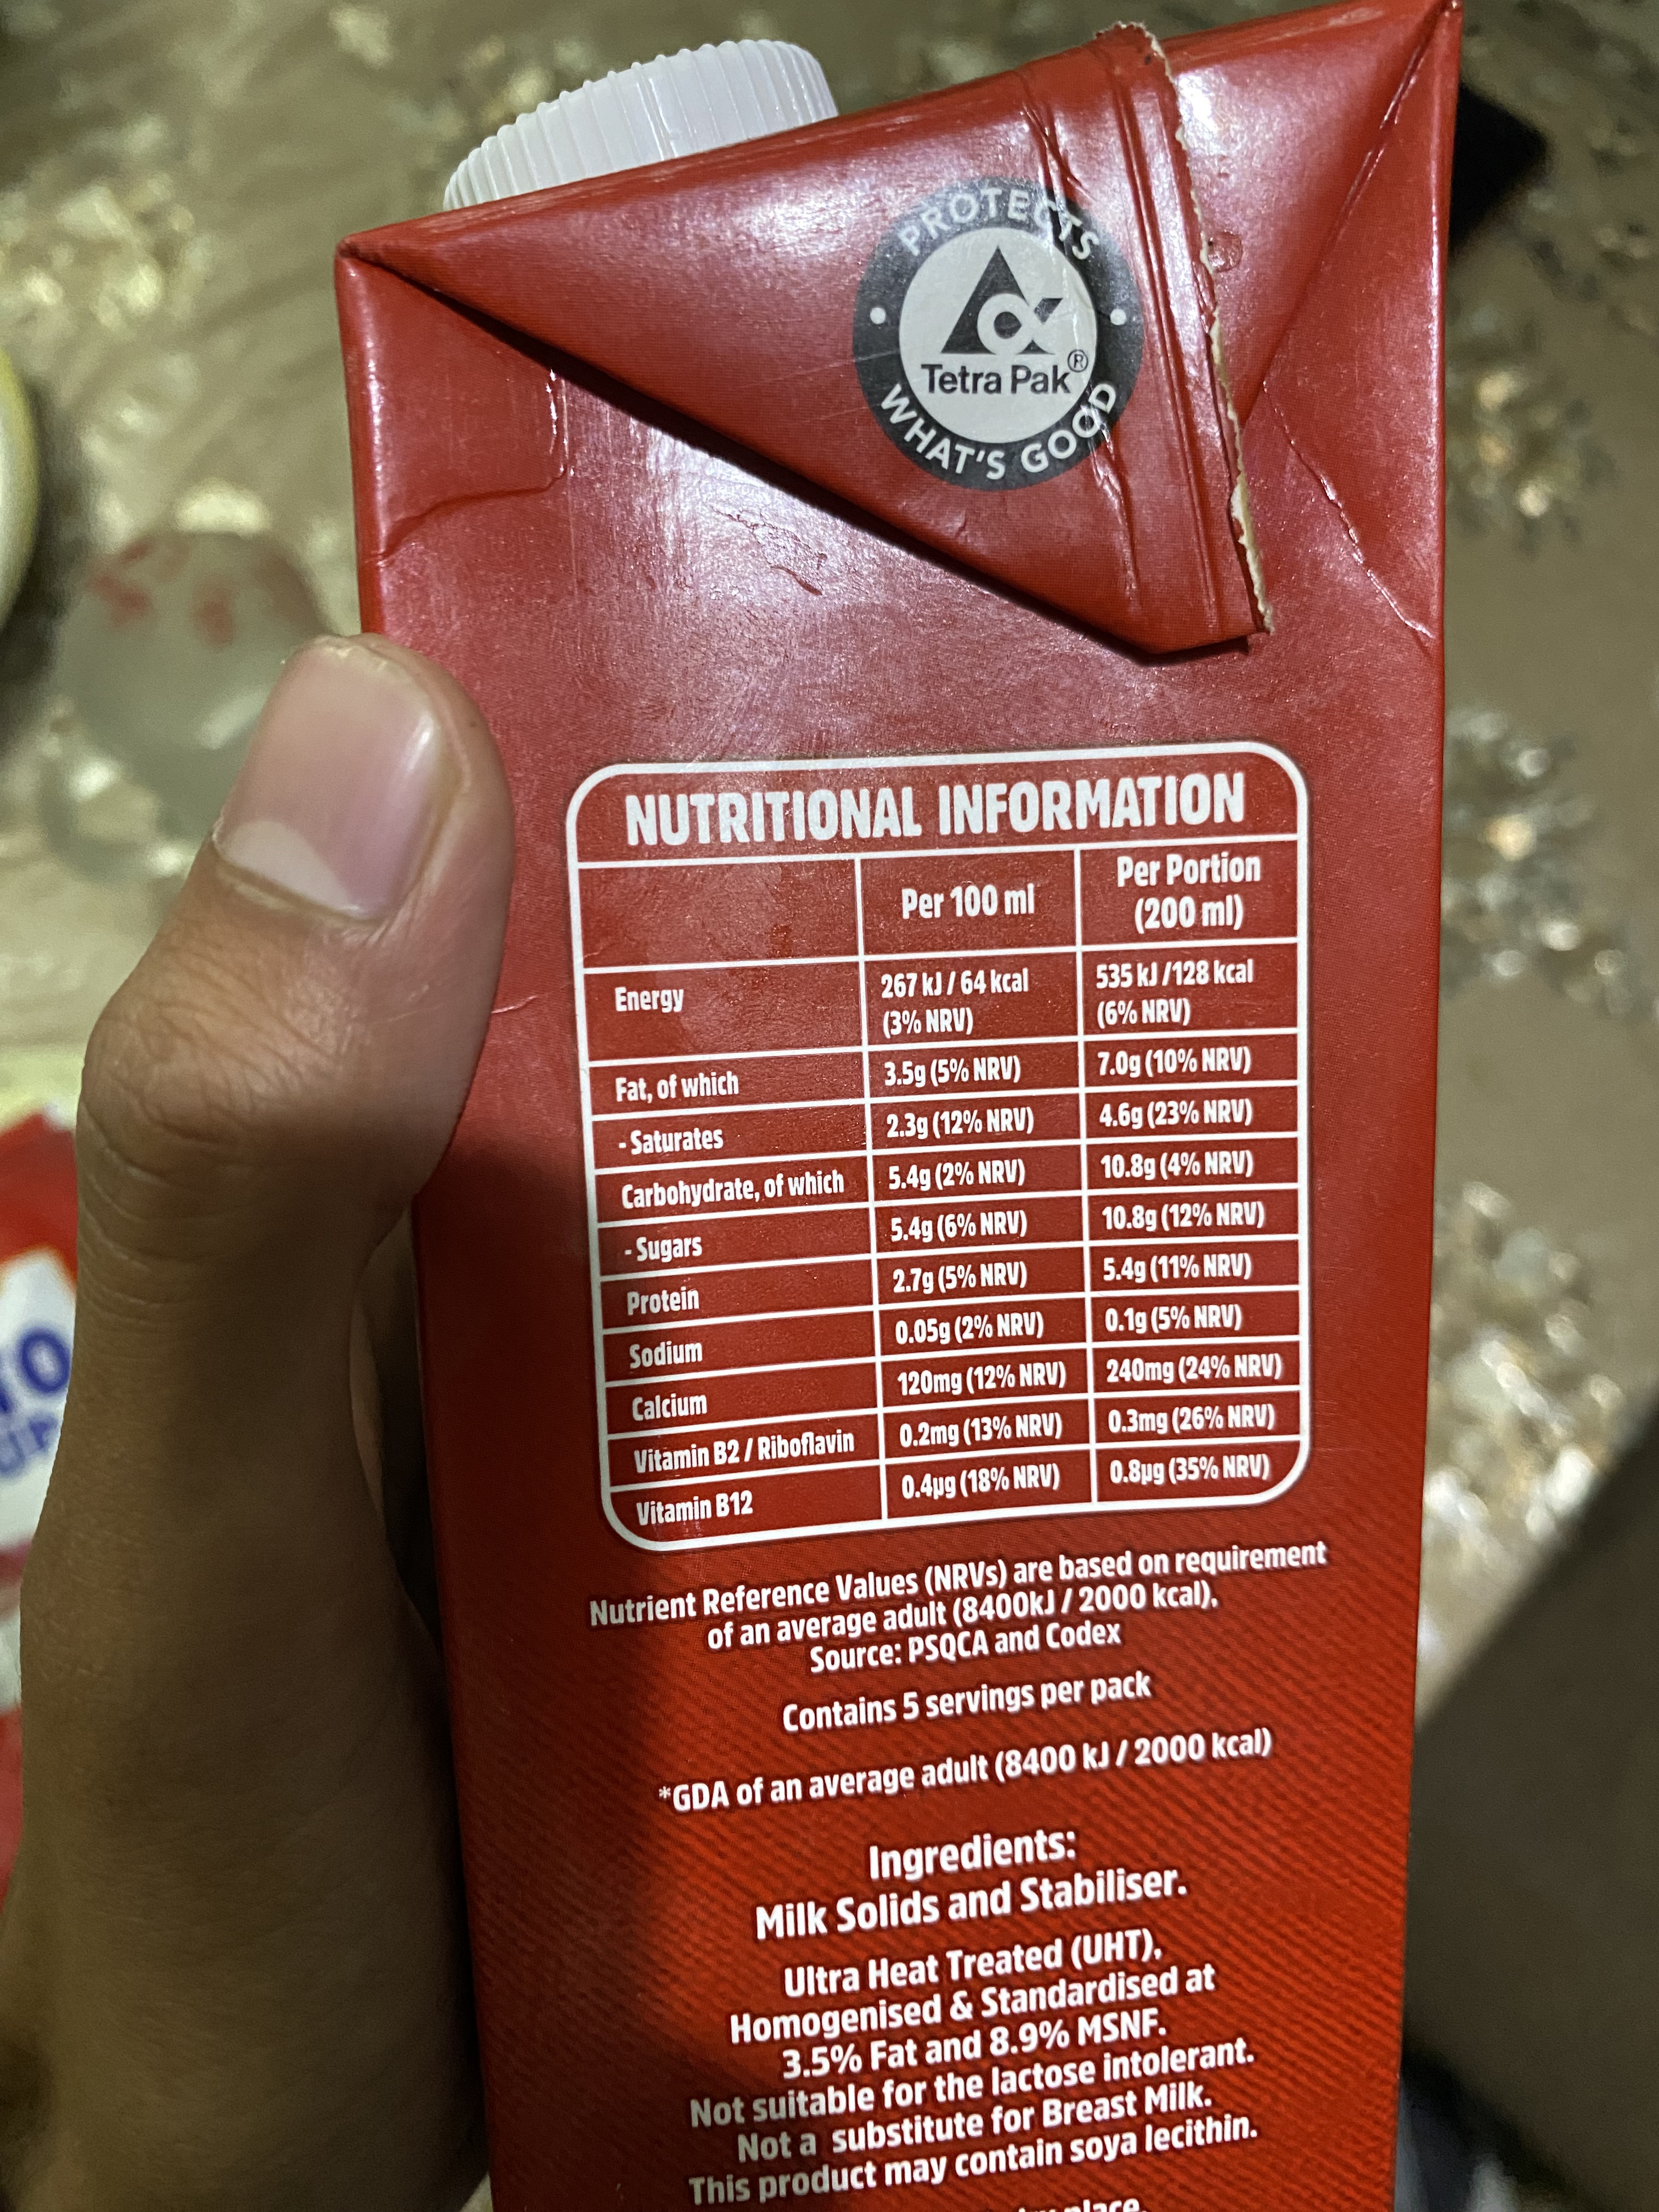table: (556, 737, 1344, 1543)
